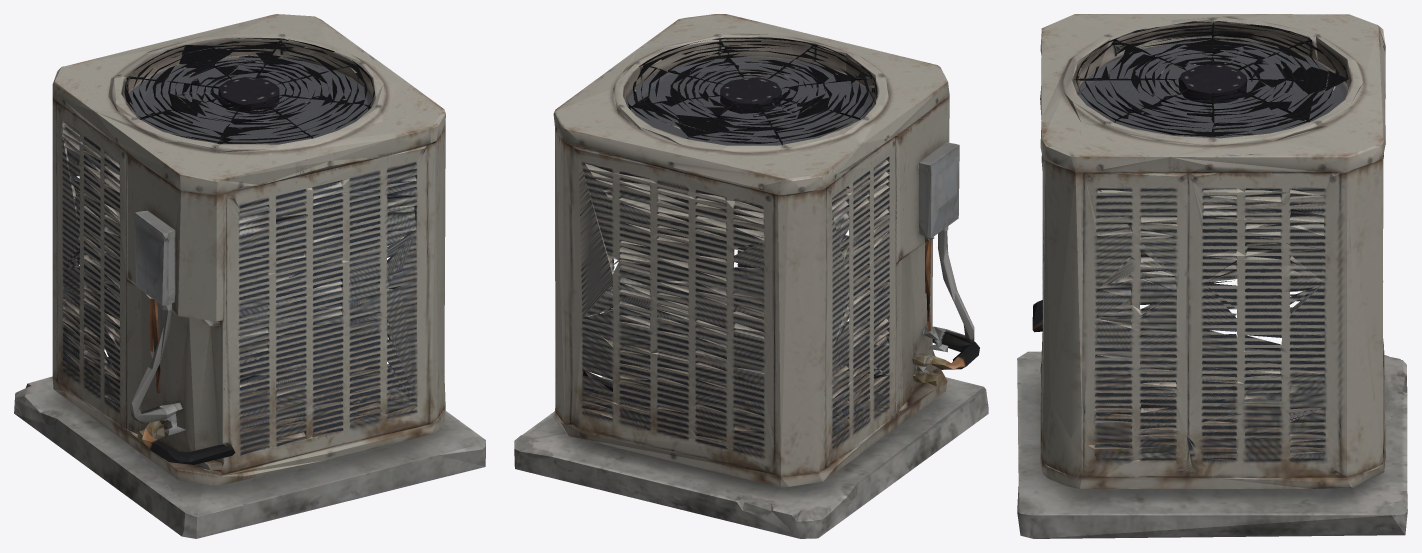
Rendered from clim.glb.
3 views of the same model, side by side, from view 1: azimuth 30°, elevation 25°; view 2: azimuth 150°, elevation 25°; view 3: azimuth 270°, elevation 25° (orthographic). The views are drawn at different scales.
Visible parts, largest first — view 1: output_unwrapped; view 2: output_unwrapped; view 3: output_unwrapped.
Boxes of the visible parts, <box> form: output_unwrapped: <box>14,14,485,538</box>; output_unwrapped: <box>514,14,988,538</box>; output_unwrapped: <box>1017,14,1407,538</box>.
Bounding box in the file's own units: 1.84 × 1.9 × 1.77.
Materials: 1 (1 with a texture image).
